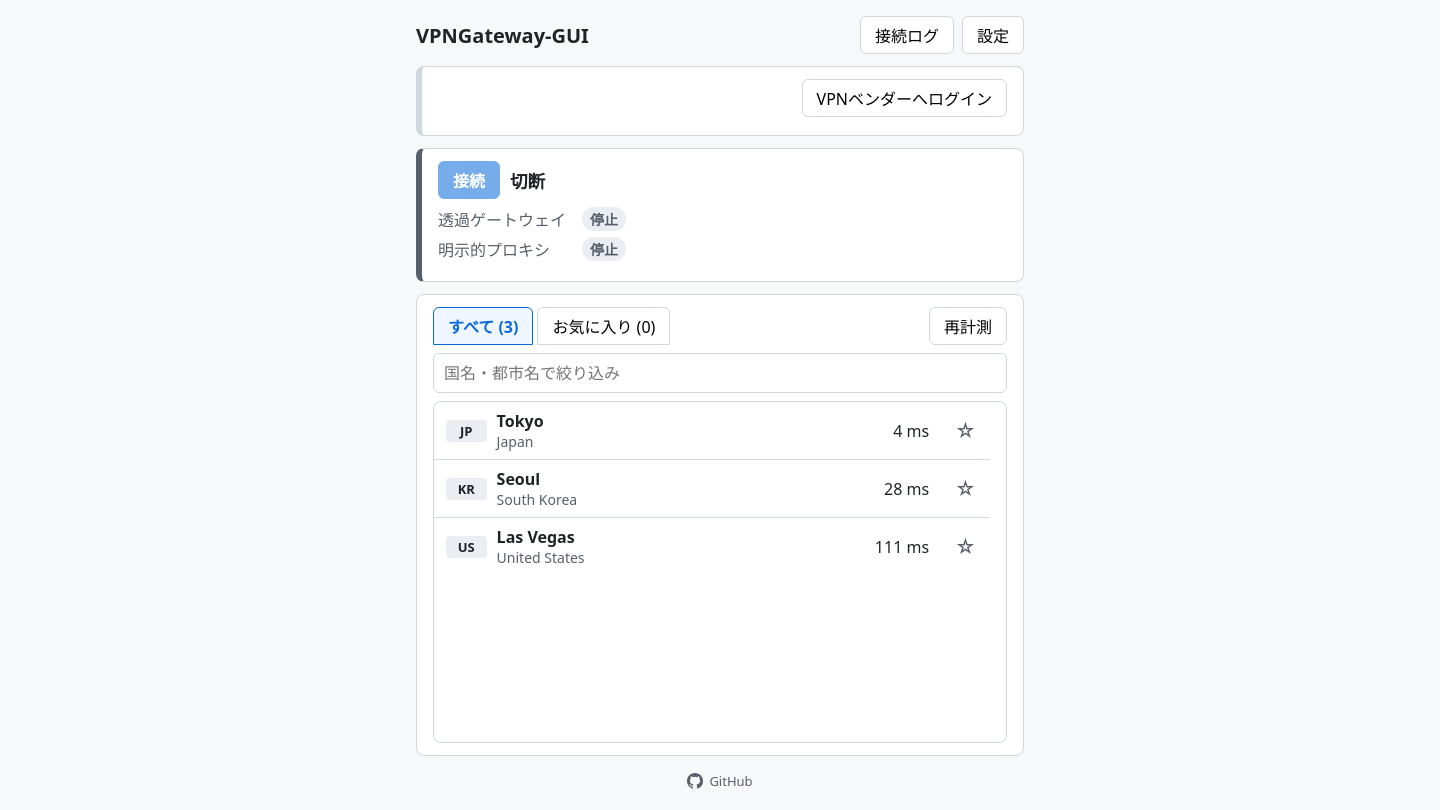
Test case: App › ★でお気に入りへ追加でき、「お気に入り」タブにping昇順で出る。API失敗時は元に戻してトースト通知する
Expected: the radio button labelled "JP Tokyo Japan 4 ms" is shown, [434,402,941,459]
Click the button named "Las Vegasをお気に入りに追加".
click(966, 546)  # box [941,518,990,575]
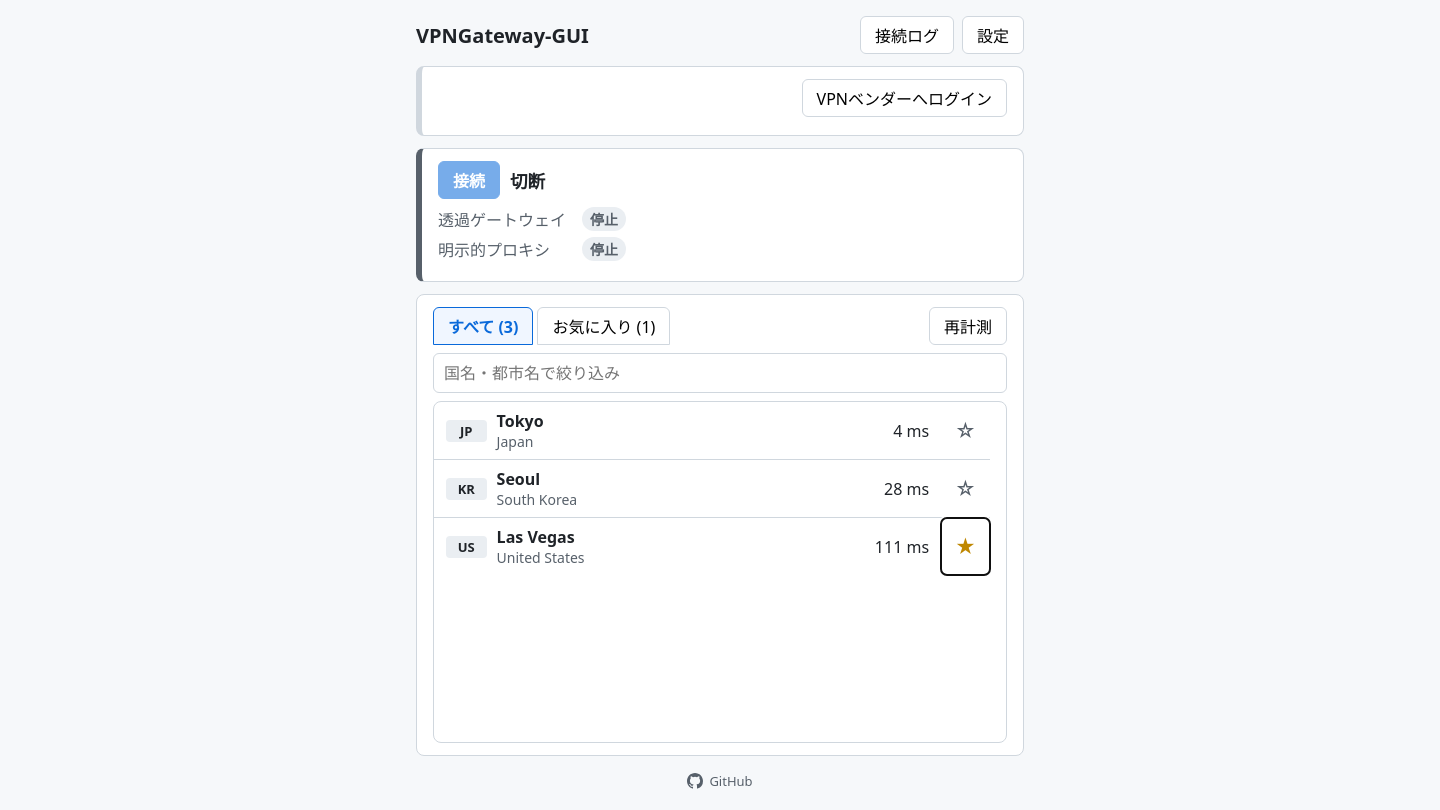
Click the button named "Seoulをお気に入りに追加".
click(966, 488)  # box [941,460,990,517]
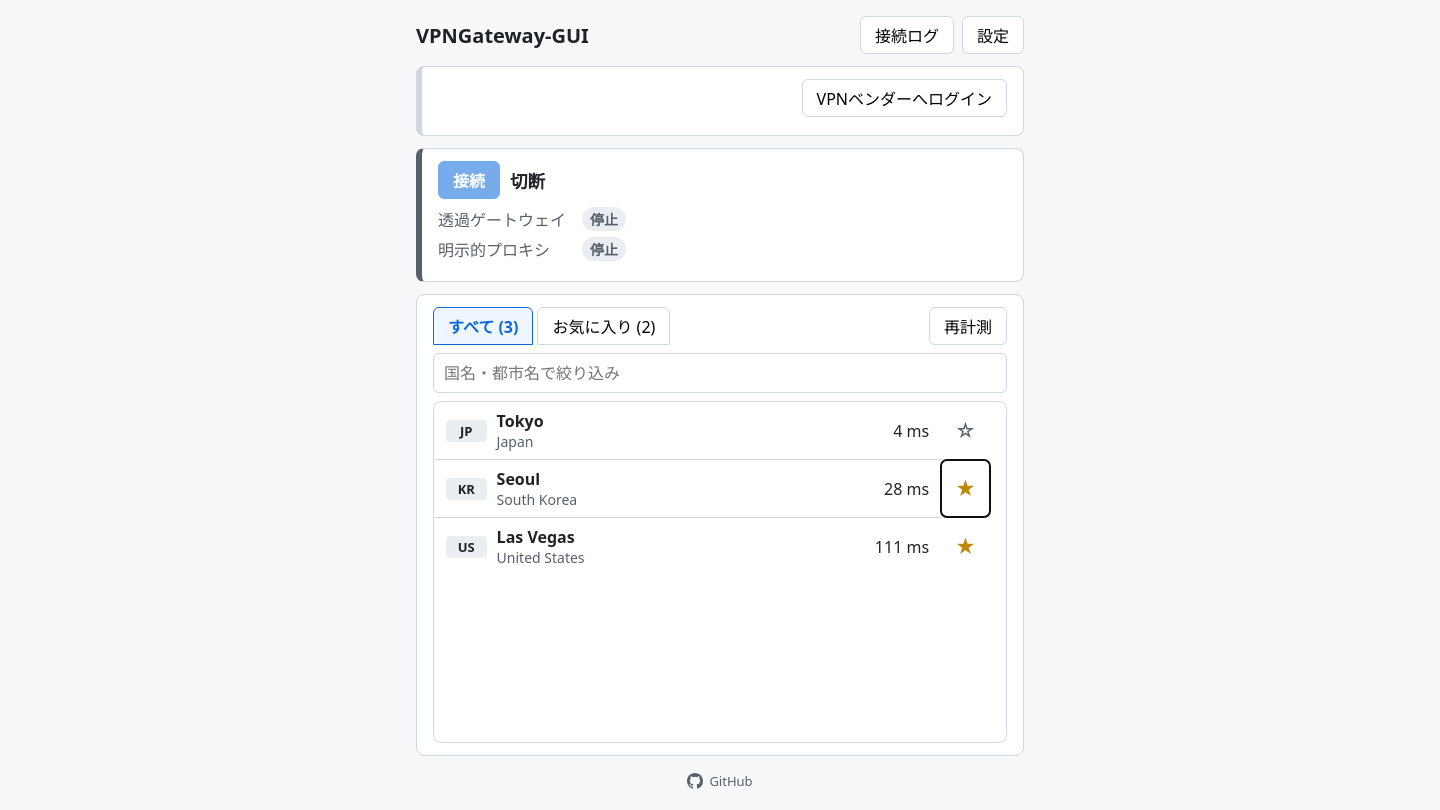
Click the tab "お気に入り (2)".
click(604, 326)  # box [537,307,670,345]
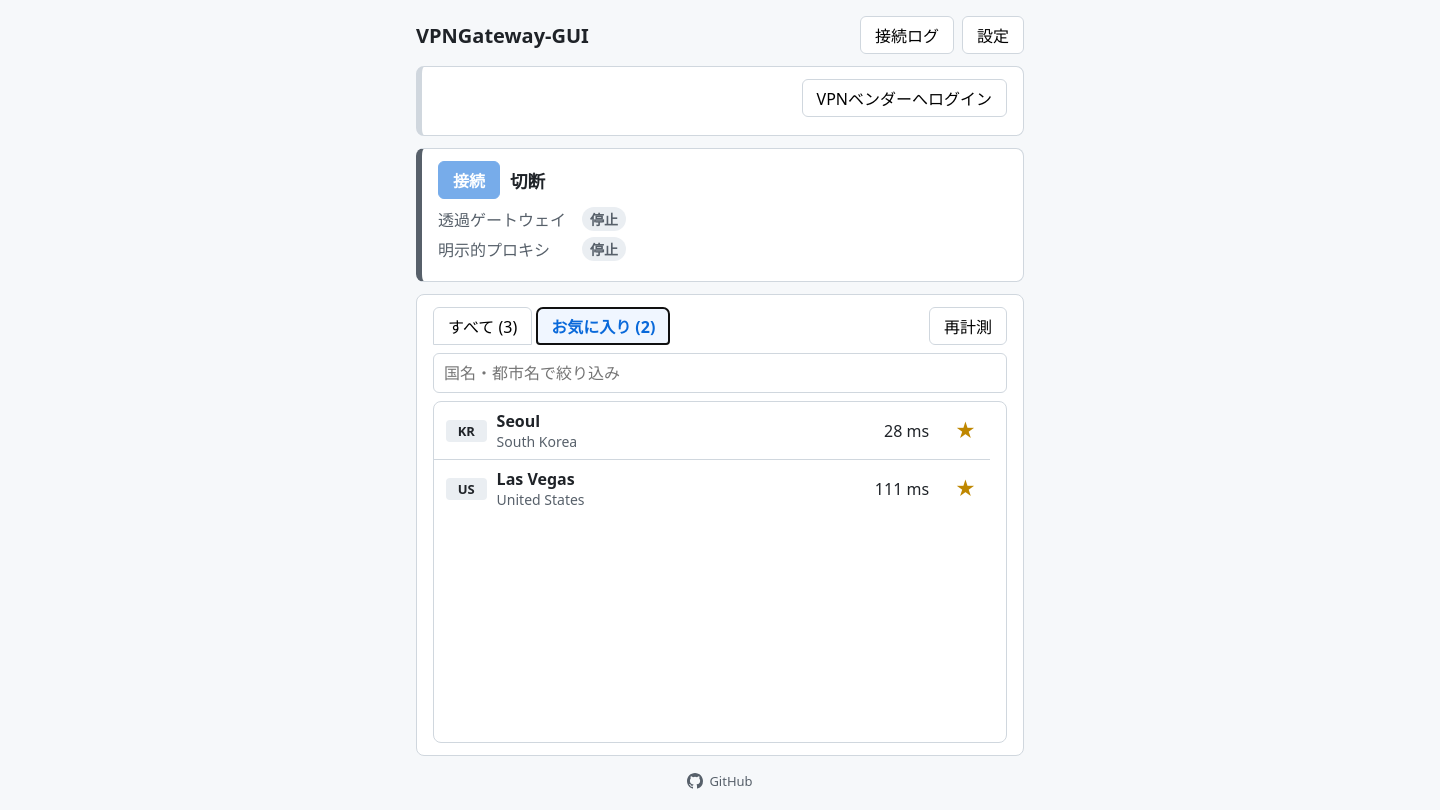
Expected: the list item "KR Seoul South Korea 28 ms ★" is shown, [434,402,990,460]
Result: the number of list items is 2 at [434,402,990,460]; [434,460,990,517]
Click the button named "Seoulのお気に入りを解除".
click(966, 430)  # box [941,402,990,459]
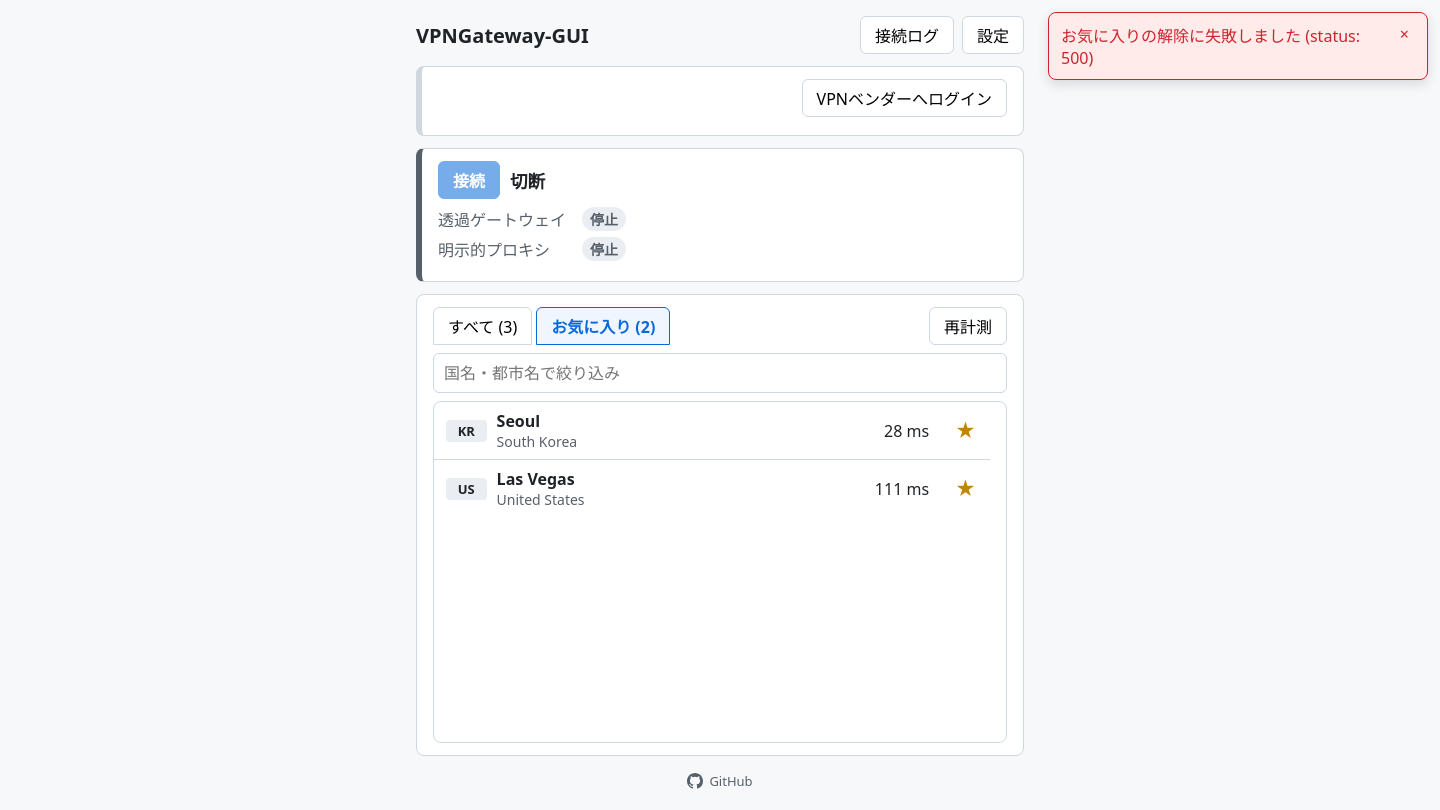
Result: the button named "Seoulのお気に入りを解除" is shown at [941,402,990,459]
Result: the message shows "お気に入りの解除に失敗しました" at [1061,25,1360,69]
